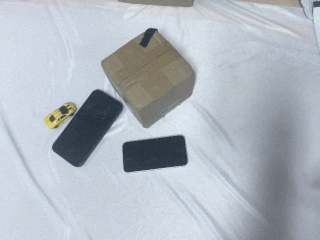box: (100, 27, 196, 129)
phone: (51, 88, 125, 169), (122, 135, 188, 173)
toy_car: (44, 101, 77, 129)
